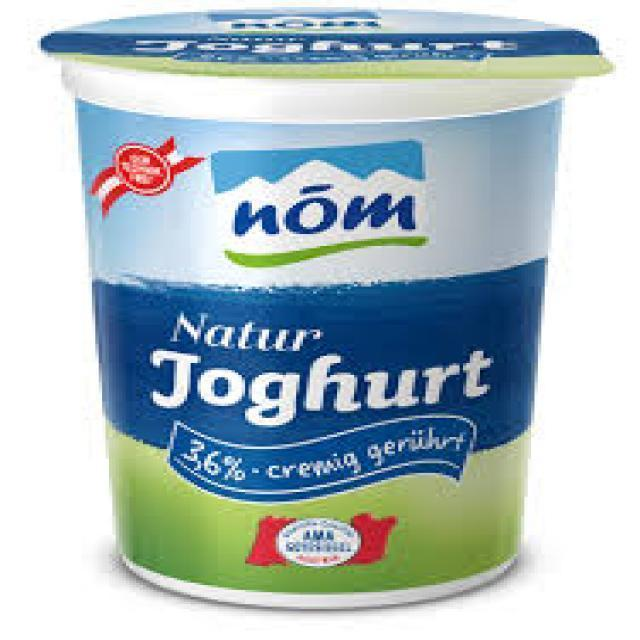Plastic: (41, 6, 610, 608)
